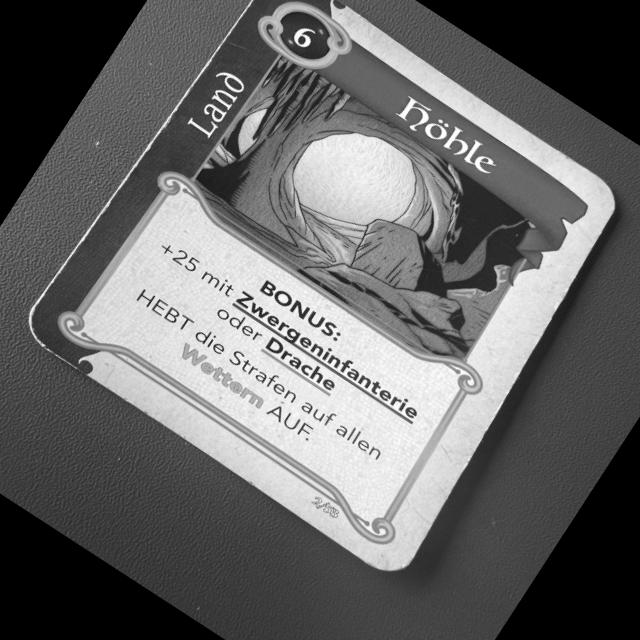Underground Caverns: (6, 0, 633, 585)
